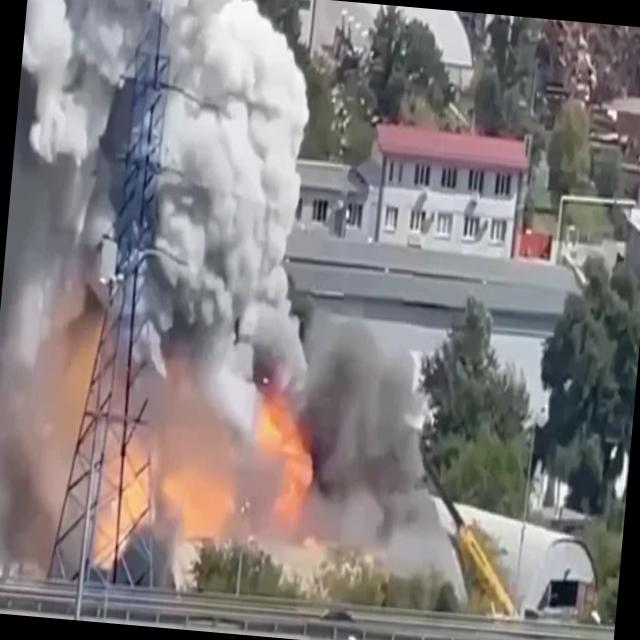Smoke: (0, 0, 346, 559)
